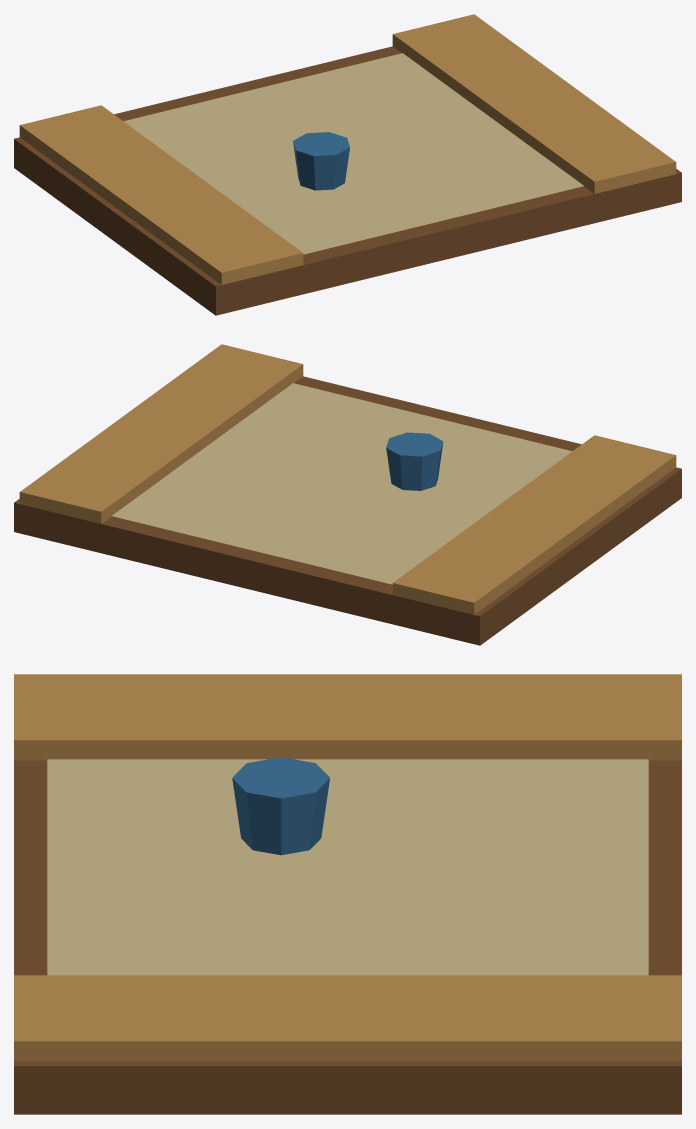
The model's file is Sandpit.obj.
3 renders of one model, top to bottom at view 1: azimuth 30°, elevation 25°; view 2: azimuth 150°, elevation 25°; view 3: azimuth 270°, elevation 25°, orthographic. The views are drawn at different scales.
Parts seen in each view (by area): view 1: Sandpit; view 2: Sandpit; view 3: Sandpit.
Boxes of the visible parts, x1,y1,x2,y2 form: Sandpit: (14,14,681,315); Sandpit: (14,344,681,645); Sandpit: (14,674,681,1114).
Size of the model in its own units: 4 by 0.55 by 3.
1 material, 1 textured.
